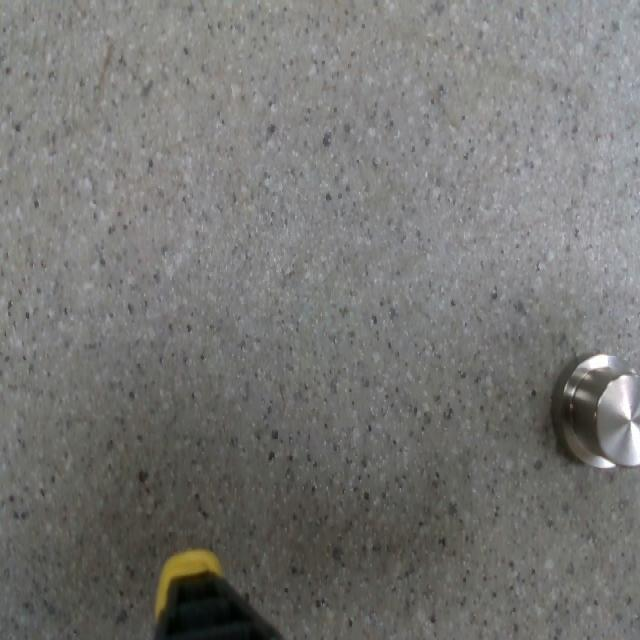sensor: (547, 350, 639, 469)
